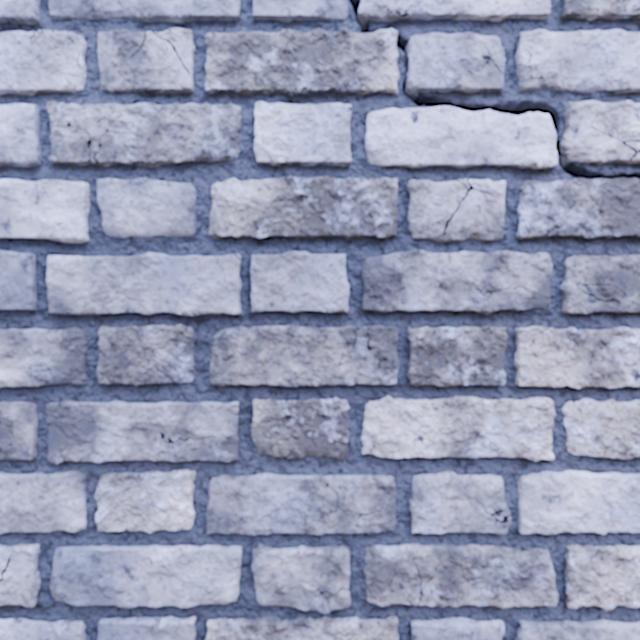crack: (205, 0, 639, 239), (364, 543, 558, 609), (47, 101, 240, 167), (361, 396, 555, 460), (361, 250, 552, 314), (46, 400, 239, 463), (46, 253, 241, 315), (50, 545, 241, 608), (209, 176, 397, 239), (206, 473, 396, 535), (210, 325, 399, 386), (516, 29, 639, 93), (517, 470, 639, 534), (514, 326, 639, 388), (251, 544, 350, 613), (408, 472, 510, 535), (95, 469, 195, 533), (254, 101, 351, 166), (98, 28, 194, 93), (406, 179, 505, 241), (407, 326, 507, 387), (97, 324, 195, 386), (251, 397, 349, 459), (250, 251, 349, 312), (97, 178, 195, 238), (0, 29, 86, 95), (0, 179, 89, 242), (0, 471, 86, 533), (0, 328, 86, 387), (565, 545, 639, 610), (562, 398, 639, 459), (560, 255, 639, 314), (205, 616, 398, 639), (48, 0, 240, 22), (0, 104, 41, 167), (0, 544, 40, 607), (515, 620, 639, 639), (97, 616, 195, 639), (0, 402, 37, 460), (0, 251, 36, 309), (253, 0, 347, 22), (411, 617, 504, 639), (0, 618, 85, 639), (560, 0, 639, 21), (0, 0, 40, 24)
